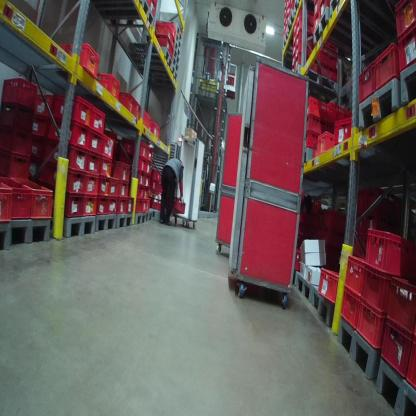pallet: (330, 306, 380, 383), (312, 3, 371, 59), (328, 2, 392, 45), (355, 76, 400, 135), (374, 356, 415, 416), (297, 59, 345, 102), (117, 37, 173, 70), (10, 216, 52, 254), (96, 1, 153, 28), (62, 213, 99, 242), (309, 284, 333, 328), (142, 64, 179, 83), (286, 6, 304, 40), (292, 271, 310, 302), (94, 212, 118, 232), (401, 69, 413, 109), (153, 206, 172, 224), (282, 34, 297, 52), (118, 212, 134, 228), (2, 221, 9, 257), (134, 209, 145, 228), (174, 41, 183, 60), (175, 22, 183, 42), (145, 209, 156, 223), (293, 1, 302, 18), (173, 47, 180, 68), (173, 58, 179, 75), (177, 32, 182, 49)
small_load_carrier: (362, 223, 413, 284), (378, 316, 413, 379), (380, 273, 413, 337), (356, 262, 395, 314), (306, 65, 339, 124), (56, 37, 100, 81), (47, 111, 90, 151), (357, 300, 391, 350), (42, 134, 90, 169), (18, 176, 56, 219), (41, 159, 84, 197), (373, 40, 402, 89), (2, 175, 32, 221), (50, 95, 92, 126), (343, 253, 369, 301), (4, 75, 39, 109), (337, 286, 363, 329), (318, 266, 345, 307), (2, 148, 33, 182), (3, 121, 33, 155), (1, 105, 37, 132), (96, 69, 122, 104), (358, 58, 379, 100), (394, 2, 415, 41), (398, 26, 416, 70), (317, 130, 342, 159), (62, 188, 87, 217), (117, 86, 138, 118), (29, 90, 55, 115), (333, 119, 355, 148), (118, 138, 146, 159), (305, 114, 332, 134), (295, 52, 322, 71), (328, 101, 353, 121), (84, 153, 105, 176), (88, 125, 105, 153), (294, 27, 319, 46), (152, 24, 175, 44), (2, 176, 12, 221), (148, 33, 170, 53), (29, 115, 48, 138), (135, 103, 151, 129), (83, 173, 99, 199), (296, 42, 320, 59), (115, 158, 131, 183), (171, 197, 188, 220), (82, 195, 99, 217), (92, 106, 104, 137), (98, 134, 112, 159), (319, 49, 339, 66), (97, 156, 114, 176), (296, 20, 322, 33), (305, 129, 322, 148), (130, 165, 146, 185), (95, 193, 109, 215), (97, 176, 110, 197), (109, 172, 119, 199), (149, 119, 161, 141), (316, 0, 328, 21), (135, 153, 147, 173), (118, 182, 130, 201), (105, 199, 119, 215), (127, 194, 136, 215), (118, 199, 128, 217), (133, 199, 144, 214), (312, 10, 320, 30), (152, 165, 160, 181), (147, 144, 153, 164), (168, 40, 174, 60), (150, 0, 156, 17), (146, 159, 152, 176), (137, 182, 143, 197), (143, 185, 150, 197), (144, 175, 150, 188), (144, 202, 148, 214)
